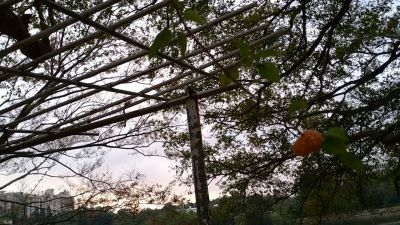eggs: (292, 129, 324, 157)
